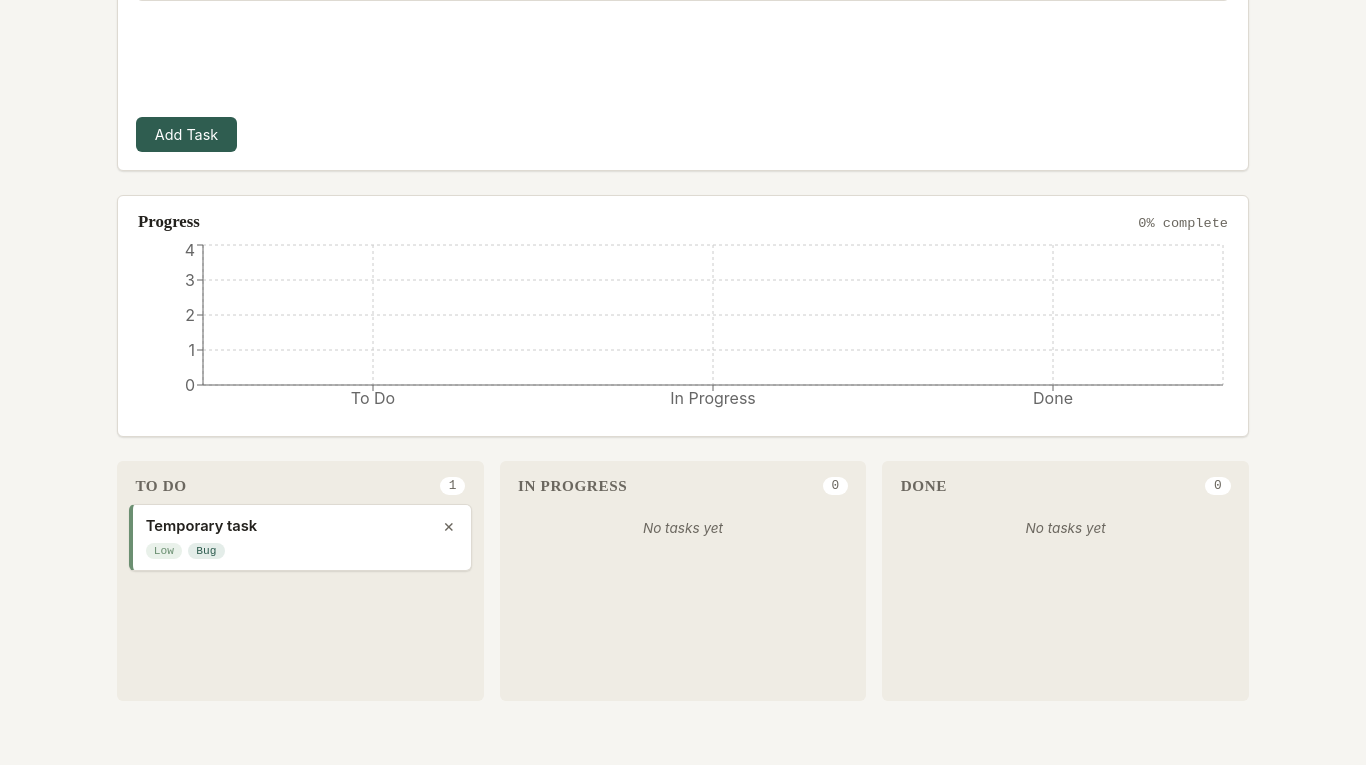
Test: deleting a task removes it from the board once sync:tasks confirms the deletion
The width and height of the screenshot is (1366, 765).
(page scrolled)
Click the button named "Delete Temporary task". click: (449, 525)
box: [440,516,458,534]
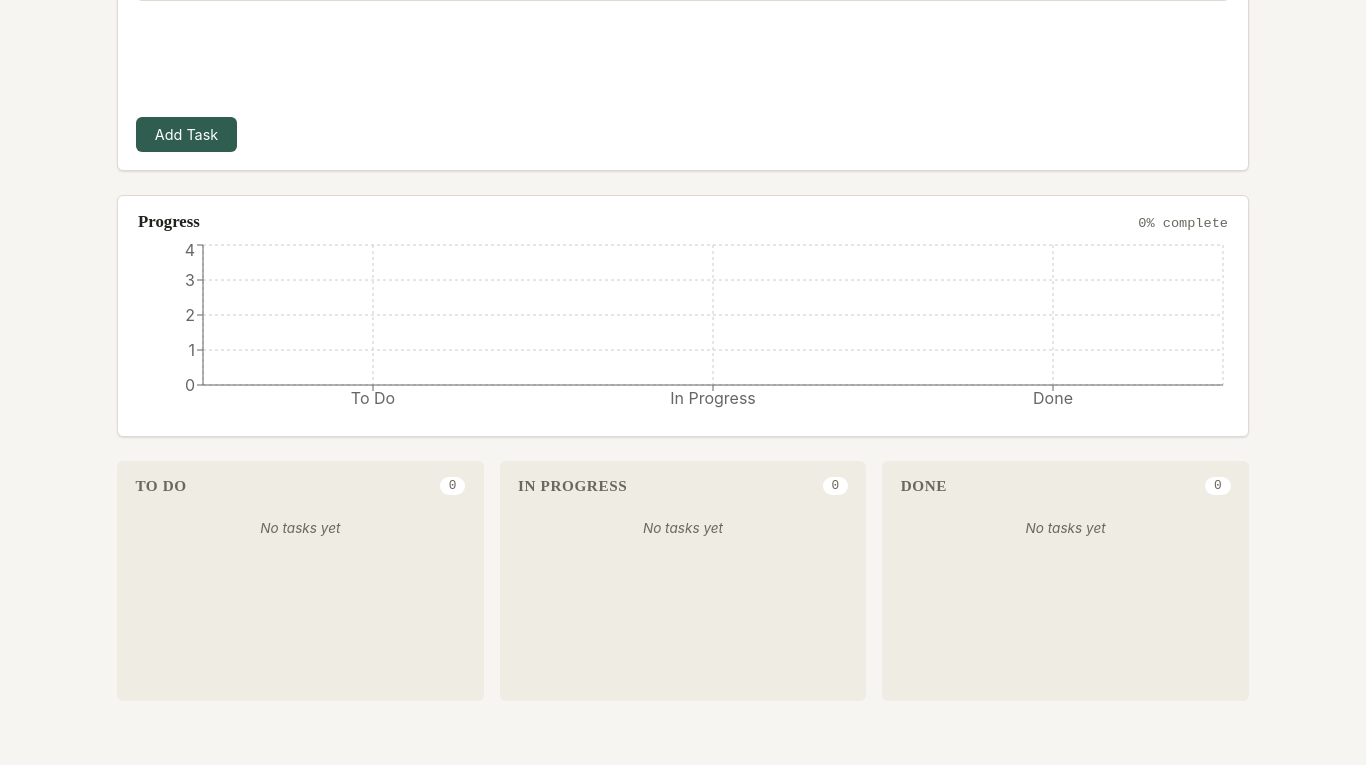
Expected: the button "Temporary task" is gone
